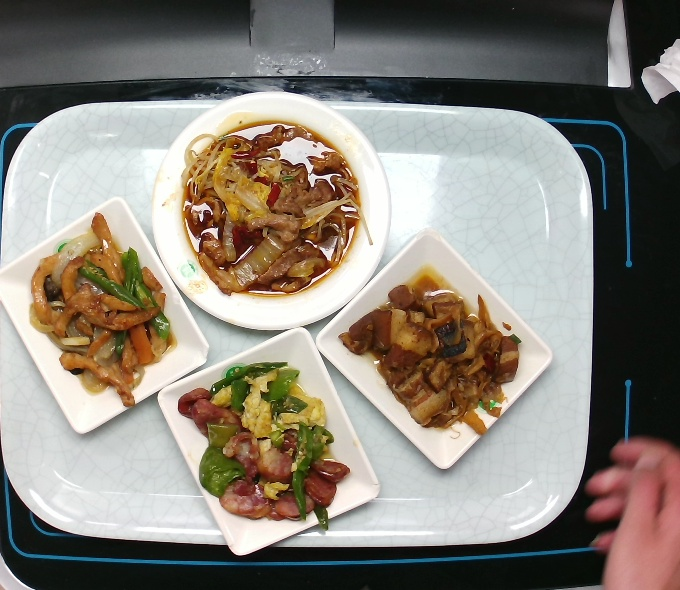wcq-HongShaoRou: (341, 270, 523, 433)
wcq-QingJiaoJiDanChaoDaChang: (176, 356, 351, 536)
wcq-QingJiaoRouSi: (26, 209, 177, 412)
wcq-ShuiZhuRouPian: (181, 118, 364, 299)
